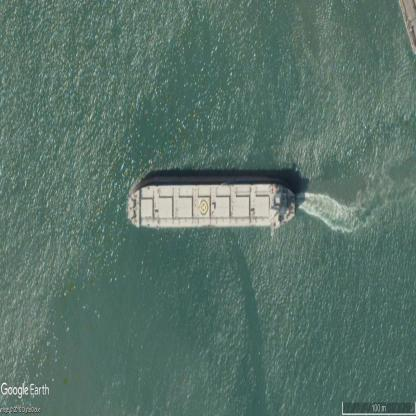ship: (127, 184, 296, 229)
